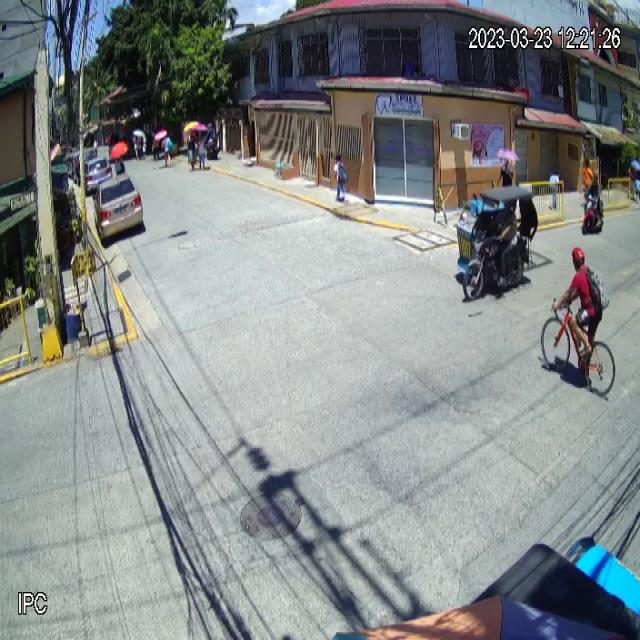Car: (93, 172, 143, 241)
Tricycle: (456, 185, 538, 301)
